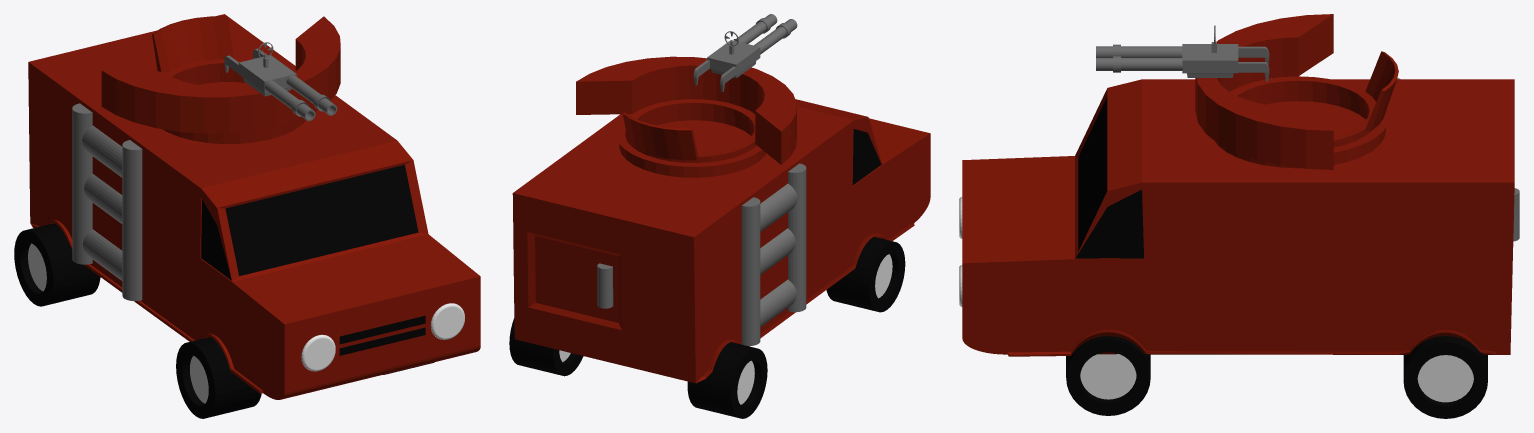
File: Gun_Car wheels.fbx
3 views of the same model, side by side, from view 1: azimuth 30°, elevation 25°; view 2: azimuth 150°, elevation 25°; view 3: azimuth 270°, elevation 25° (orthographic). The views are drawn at different scales.
Parts seen in each view (by area): view 1: Cube.001, Circle.006, Cube.002, Cube.004, Cube.008, Cube.005, Circle.001, Cube; view 2: Cube.001, Circle.006, Cube.004, Cube.008, Cube.005, Circle.001, Cube.003, Cube.002, Cylinder; view 3: Cube.001, Circle.006, Cube.002, Cube.003, Cube.009, Circle.001.
Boxes of the visible parts, x1,y1,x2,y2 form: Cube.001: [28, 14, 480, 399]; Circle.006: [101, 16, 340, 143]; Cube.002: [201, 164, 425, 355]; Cube.004: [72, 103, 142, 300]; Cube.008: [14, 223, 100, 306]; Cube.005: [176, 337, 261, 418]; Circle.001: [224, 42, 337, 121]; Cube: [301, 303, 464, 371]; Cube.001: [512, 99, 930, 383]; Circle.006: [576, 56, 796, 177]; Cube.004: [741, 163, 806, 345]; Cube.008: [687, 342, 767, 418]; Cube.005: [826, 237, 905, 312]; Circle.001: [693, 14, 797, 91]; Cube.003: [509, 318, 583, 376]; Cube.002: [852, 129, 881, 185]; Cylinder: [597, 263, 613, 308]; Cube.001: [962, 79, 1514, 356]; Circle.006: [1195, 14, 1398, 169]; Cube.002: [1075, 97, 1143, 258]; Cube.003: [1403, 336, 1487, 418]; Cube.009: [1066, 336, 1150, 415]; Circle.001: [1096, 25, 1269, 81].
Bounding box in the file's own units: 244 × 300 × 459.
